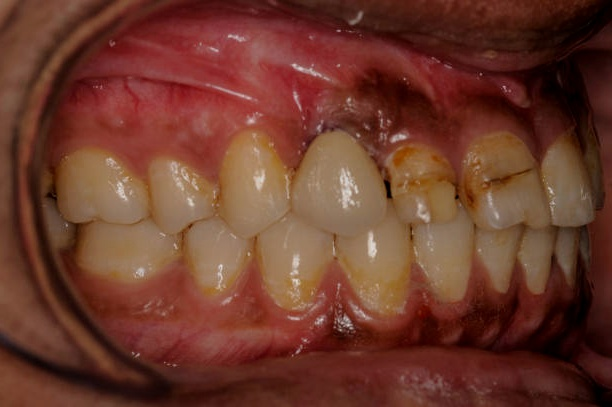Gingivitis: (335, 64, 449, 140), (395, 290, 520, 346), (305, 297, 373, 347), (466, 87, 523, 130)
